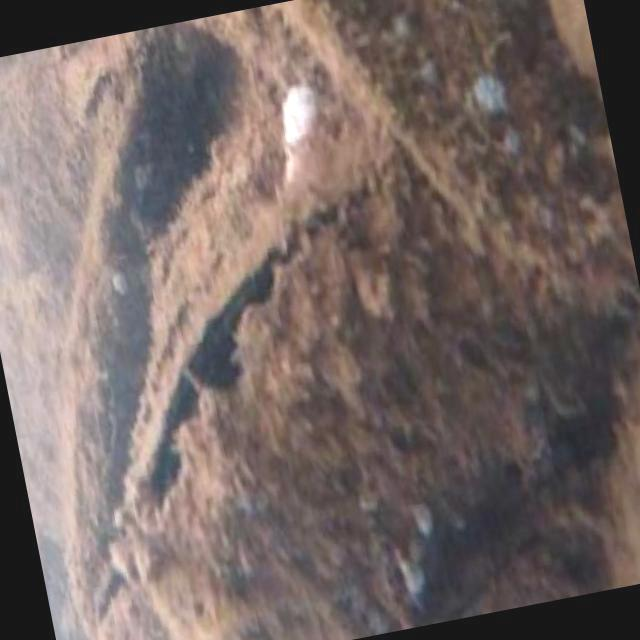Oyster-Closed: (58, 21, 254, 630), (280, 0, 624, 272)
Oyster-Open: (118, 128, 512, 584)
